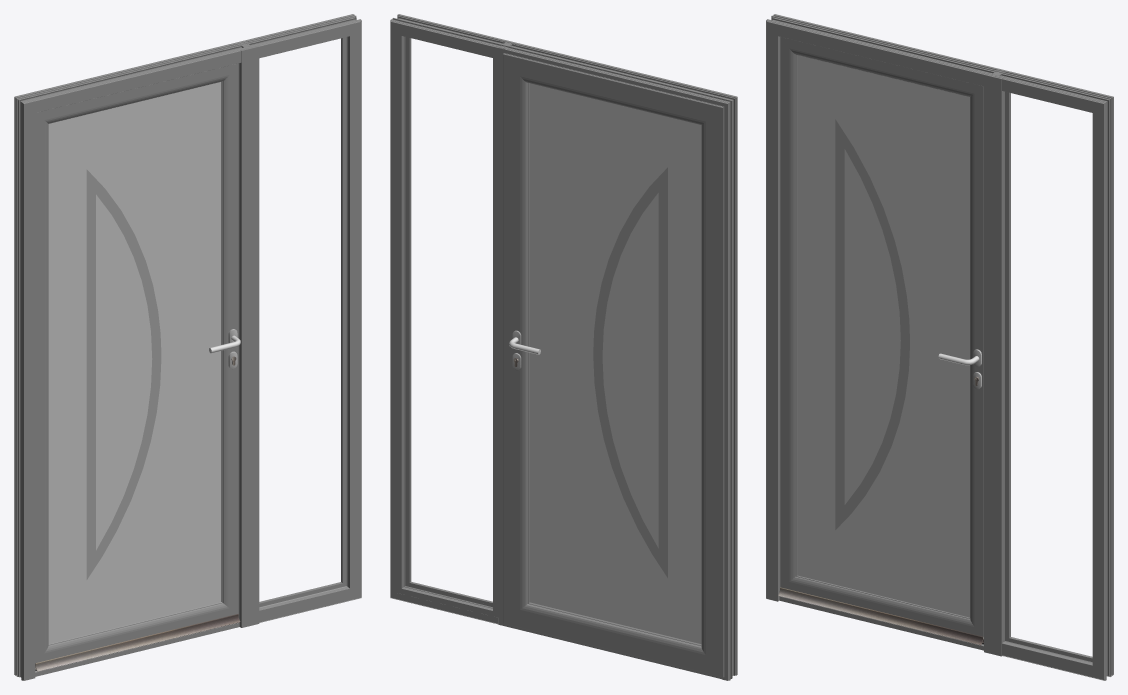
3 renders of one model, left to right at view 1: azimuth 30°, elevation 25°; view 2: azimuth 150°, elevation 25°; view 3: azimuth 330°, elevation 25°, orthographic.
Parts seen in each view (by area): view 1: fosco_7, aroFixo, aroMovel, montanteCentral, transparente_7, bite, borracha, escovas, rodaPe; view 2: fosco_7, aroMovel, aroFixo, bite, transparente_7, montanteCentral, borracha, rodaPe; view 3: fosco_7, aroFixo, aroMovel, montanteCentral, transparente_7, bite, escovas, borracha, rodaPe.
Boxes of the visible parts, box(x1,y1,x2,y2) form: fosco_7: box(48, 82, 221, 643); aroFixo: box(14, 14, 361, 680); aroMovel: box(35, 63, 238, 663); montanteCentral: box(238, 42, 259, 627); transparente_7: box(86, 169, 161, 579); bite: box(259, 37, 346, 607); borracha: box(259, 37, 345, 606); escovas: box(35, 614, 240, 671); rodaPe: box(35, 622, 239, 676); fosco_7: box(529, 83, 701, 644); aroMovel: box(503, 53, 724, 677); aroFixo: box(390, 14, 737, 680); bite: box(396, 29, 498, 617); transparente_7: box(593, 167, 667, 577); montanteCentral: box(498, 40, 518, 626); borracha: box(404, 36, 492, 608); rodaPe: box(505, 624, 721, 679); fosco_7: box(797, 55, 969, 617); aroFixo: box(766, 14, 1113, 680); aroMovel: box(780, 37, 983, 638); montanteCentral: box(984, 70, 1004, 656); transparente_7: box(835, 119, 909, 529); bite: box(1005, 91, 1092, 661); escovas: box(778, 587, 983, 645); borracha: box(1006, 92, 1092, 660); rodaPe: box(779, 596, 983, 650).
Size of the model in its own units: 1320 by 2149 by 185.
10 materials, 4 textured.
